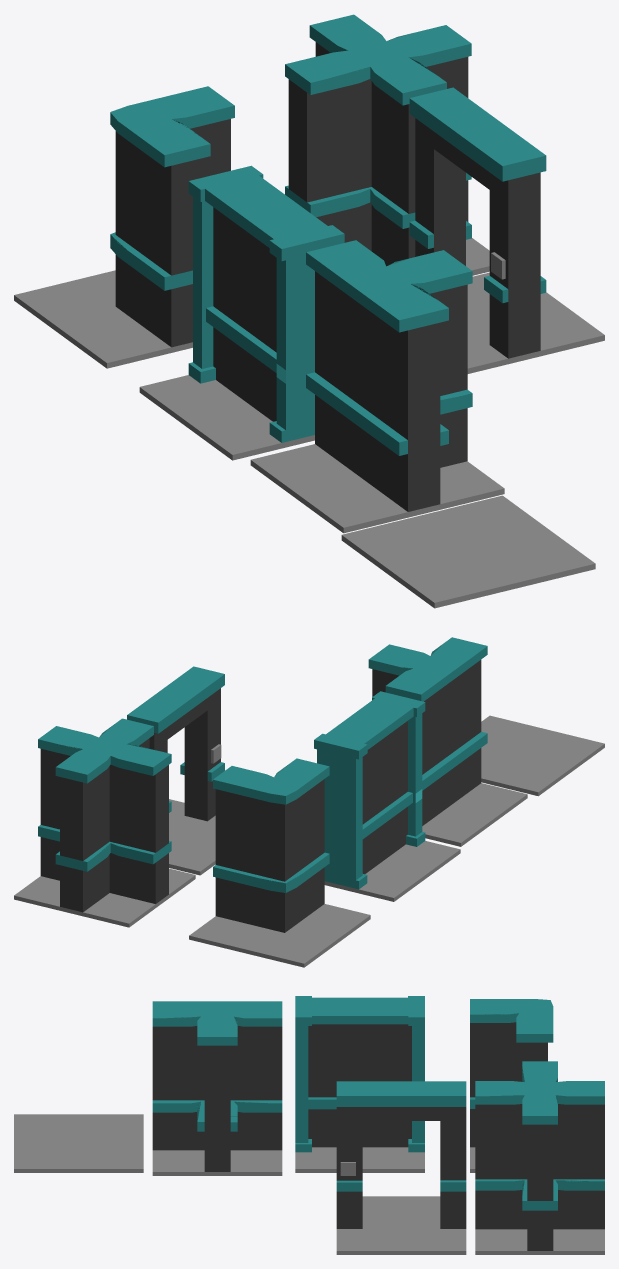
The model's file is Walls.fbx.
3 renders of one model, top to bottom at view 1: azimuth 30°, elevation 25°; view 2: azimuth 150°, elevation 25°; view 3: azimuth 270°, elevation 25°, orthographic. The views are drawn at different scales.
Parts seen in each view (by area): view 1: T_Splits, Wall, FourWall, Corner, Door5, Floor; view 2: FourWall, Corner, Wall, T_Splits, Door5, Floor; view 3: FourWall, T_Splits, Wall, Door5, Floor, Corner.
Part boxes in pixels (x1,y1,x2,y2): T_Splits: (250,240,504,533); Wall: (139,165,344,460); FourWall: (285,14,489,275); Corner: (14,86,234,368); Door5: (409,87,604,373); Floor: (341,495,595,608); FourWall: (14,718,195,927); Corner: (189,758,370,967); Wall: (314,691,460,901); T_Splits: (368,637,527,846); Door5: (127,666,224,875); Floor: (481,715,604,796); FourWall: (475,1061,604,1254); T_Splits: (152,1001,282,1175); Wall: (295,996,424,1172); Door5: (336,1081,466,1254); Floor: (14,1114,143,1172); Corner: (470,999,553,1172).
Bounding box in the file's own units: 499 × 237 × 912.
